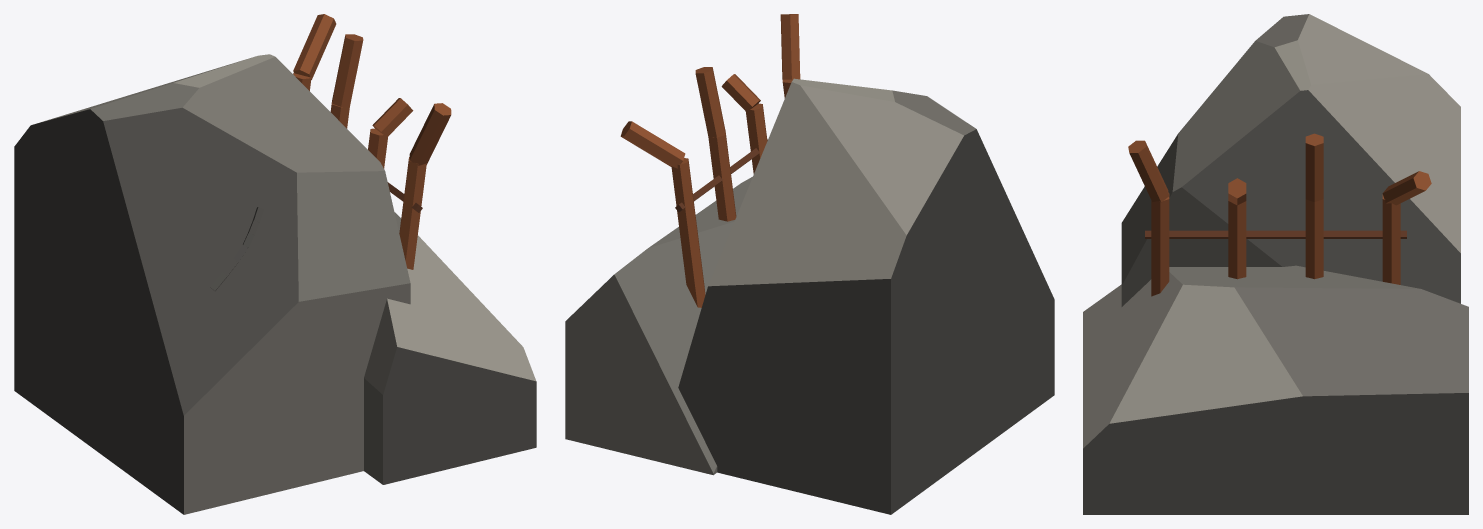
Rendered from rubble_b.fbx.
3 renders of one model, left to right at view 1: azimuth 30°, elevation 25°; view 2: azimuth 150°, elevation 25°; view 3: azimuth 270°, elevation 25°, orthographic. The views are drawn at different scales.
Parts seen in each view (by area): view 1: rubble_b; view 2: rubble_b; view 3: rubble_b.
Part boxes in pixels (x1=…): rubble_b: x1=14, y1=14, x2=536, y2=514; rubble_b: x1=565, y1=14, x2=1054, y2=514; rubble_b: x1=1083, y1=14, x2=1468, y2=514.
Size of the model in its own units: 1 by 1 by 1.
